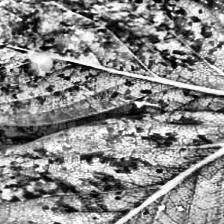Angular Leafspot: (0, 0, 224, 139), (0, 111, 224, 224)
